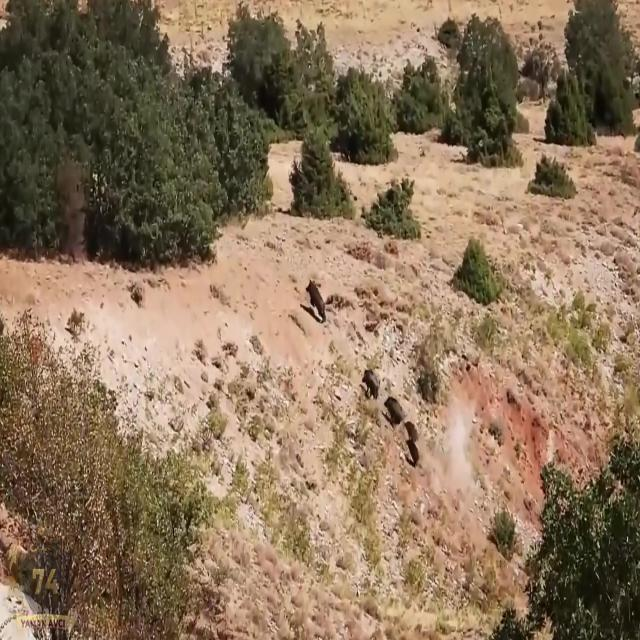pig: (288, 262, 334, 326), (344, 357, 382, 395), (384, 395, 404, 441), (405, 418, 419, 460)
